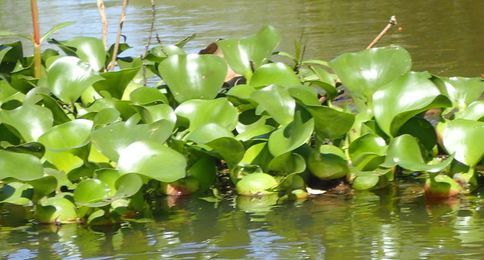water_hyacinth: (1, 27, 483, 222)
